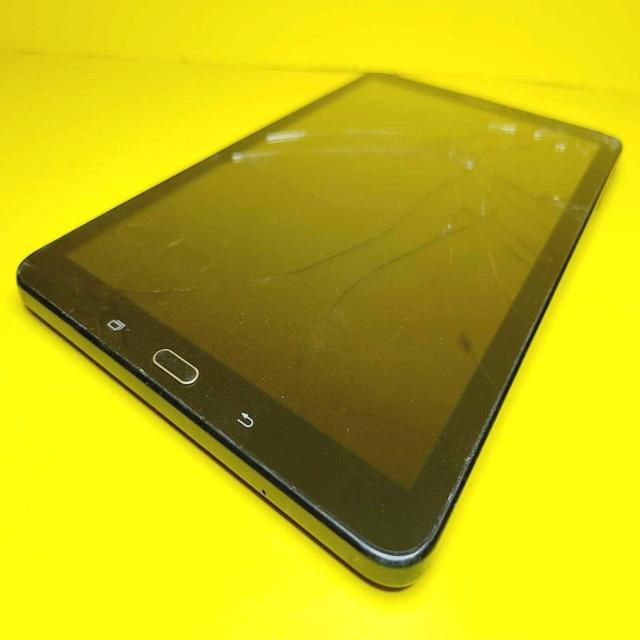Crack: (54, 36, 630, 556)
